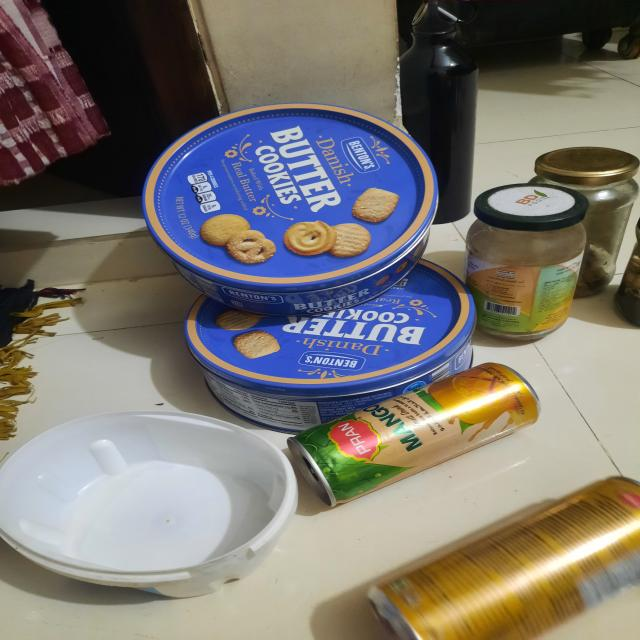Plastics: (0, 398, 268, 594)
can: (126, 100, 493, 392), (301, 359, 598, 495), (377, 490, 640, 640)
